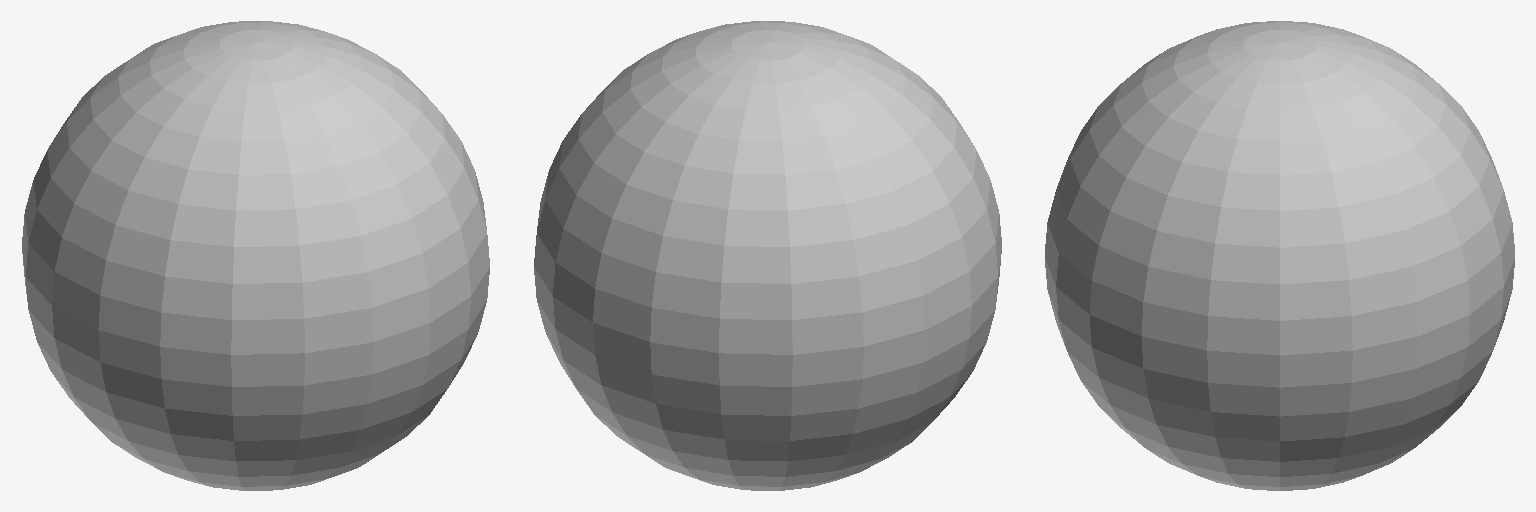
The model's file is WaterBall.obj.
The picture shows the model from 3 angles: view 1: azimuth 30°, elevation 25°; view 2: azimuth 150°, elevation 25°; view 3: azimuth 270°, elevation 25°; orthographic projection.
Visible parts, largest first — view 1: Waterball; view 2: Waterball; view 3: Waterball.
Boxes of the visible parts, box(x1,y1,x2,y2) form: Waterball: box(22, 21, 489, 490); Waterball: box(534, 21, 1001, 490); Waterball: box(1045, 21, 1514, 490).
Bounding box in the file's own units: 2 × 2 × 2.